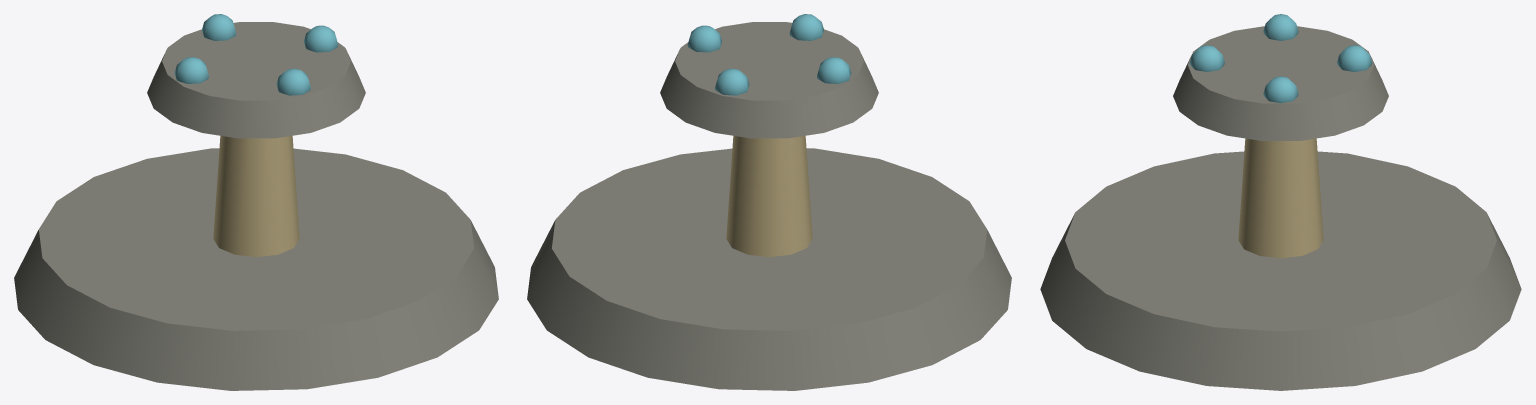
Rendered from fountain.glb.
3 renders of one model, left to right at view 1: azimuth 30°, elevation 25°; view 2: azimuth 150°, elevation 25°; view 3: azimuth 270°, elevation 25°, orthographic.
Parts seen in each view (by area): view 1: basin, upper_bowl, pillar, water_orb_0, water_orb_1, water_orb_2, water_orb_3; view 2: basin, upper_bowl, pillar, water_orb_0, water_orb_3, water_orb_1, water_orb_2; view 3: basin, upper_bowl, pillar, water_orb_2, water_orb_1, water_orb_3, water_orb_0.
Part boxes in pixels (box(x1,y1,x2,y2)): basin: box(14, 148, 498, 390); upper_bowl: box(147, 22, 365, 138); pillar: box(213, 136, 299, 256); water_orb_0: box(304, 25, 338, 52); water_orb_1: box(276, 68, 310, 95); water_orb_2: box(174, 57, 208, 83); water_orb_3: box(202, 14, 236, 40); basin: box(527, 148, 1011, 390); upper_bowl: box(660, 22, 878, 138); pillar: box(726, 136, 812, 256); water_orb_0: box(687, 25, 721, 52); water_orb_3: box(715, 68, 749, 95); water_orb_1: box(789, 14, 823, 40); water_orb_2: box(817, 57, 851, 83); basin: box(1040, 151, 1521, 390); upper_bowl: box(1173, 26, 1388, 140); pillar: box(1238, 138, 1323, 258); water_orb_2: box(1263, 14, 1298, 40); water_orb_1: box(1189, 45, 1224, 71); water_orb_3: box(1337, 45, 1372, 71); water_orb_0: box(1263, 76, 1298, 103).
Size of what is drawn, in the model's own units: 4.9 by 2.73 by 4.9.
